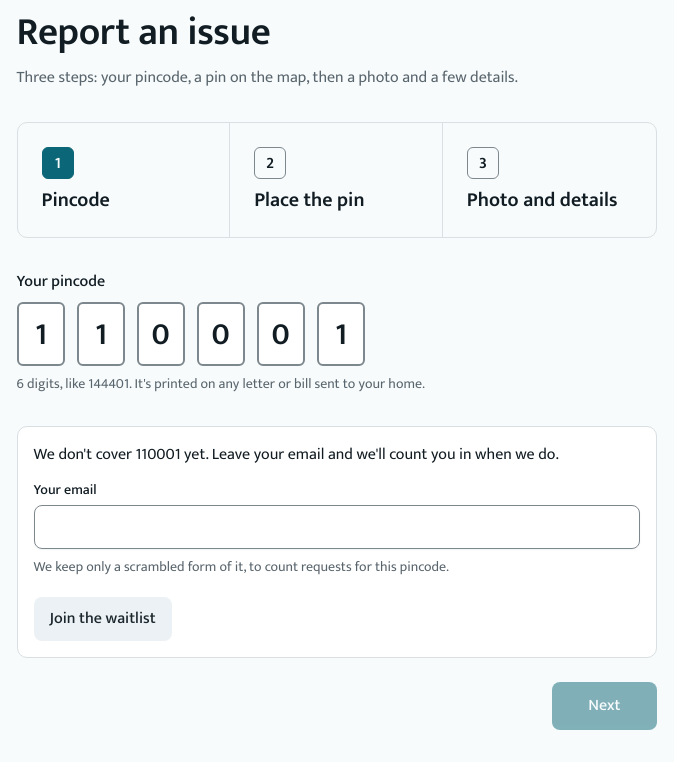
Report step 1: pincode › an unserved pincode shows the waitlist inline; joining confirms and Next stays off
Expected: the text "We don't cover 110001 yet" is shown, 34,441 -> 559,468
Expected: the button "Next" is disabled, 552,682 -> 656,730
Type "bad" into the field labelled "Your email". click: (336, 527)
box: 34,505 -> 640,549
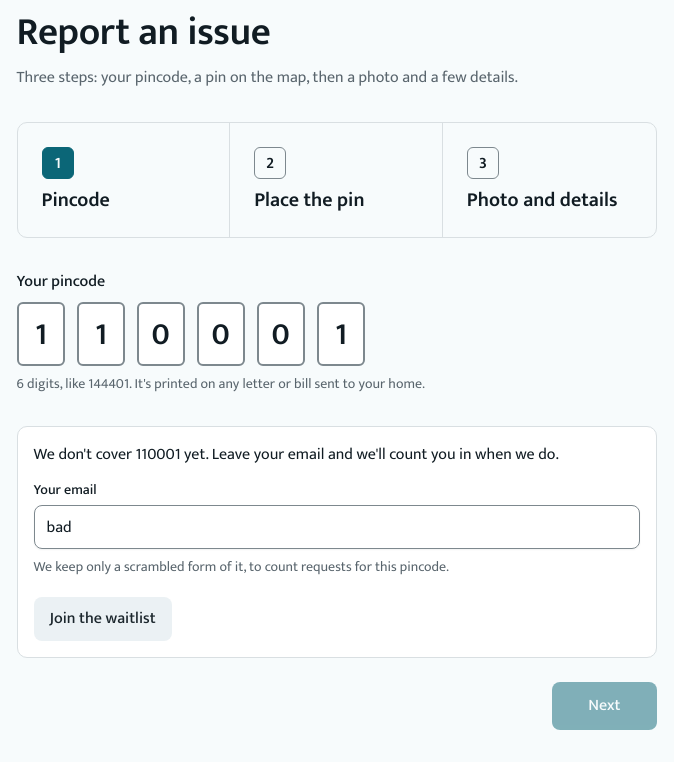
Click the button "Join the waitlist". click: (103, 619)
box: 34,597 -> 172,641
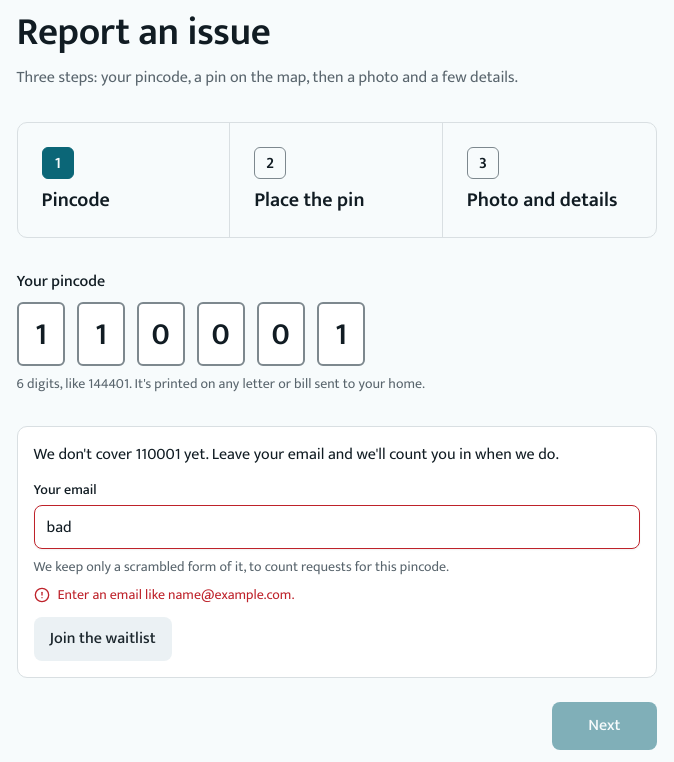
Expected: the text "Enter an email like name@example.com." is shown, 58,585 -> 294,605
Replace the text in the field labelled "Your email" with "asha@example.com". click: (336, 527)
box: 34,505 -> 640,549
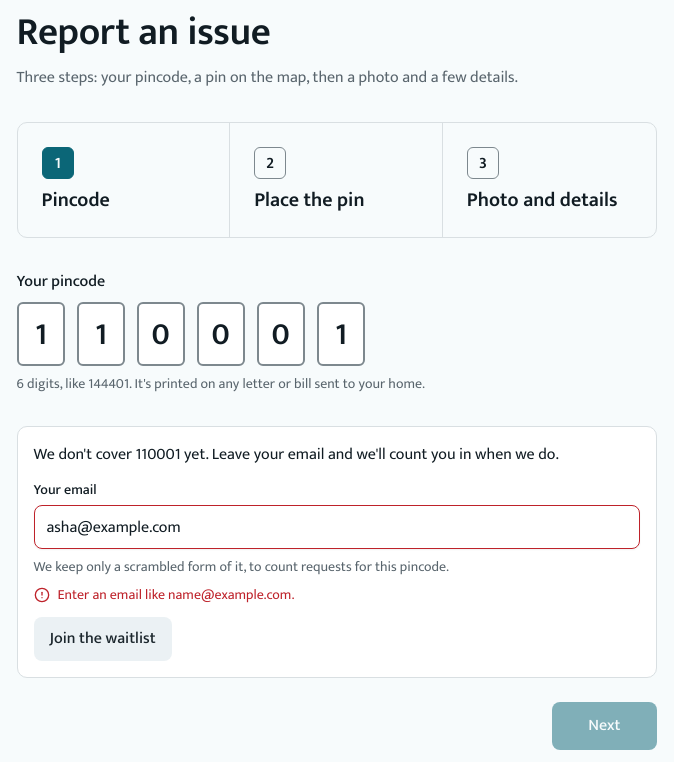
Click the button "Join the waitlist". click: (103, 639)
box: 34,617 -> 172,661
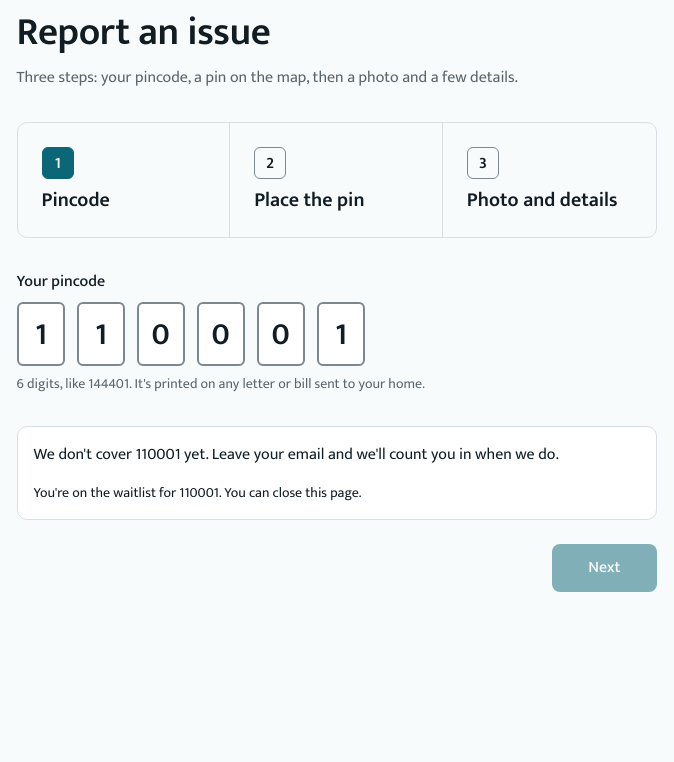
Expected: the message shows "You're on the waitlist for 110001", 34,481 -> 362,504
